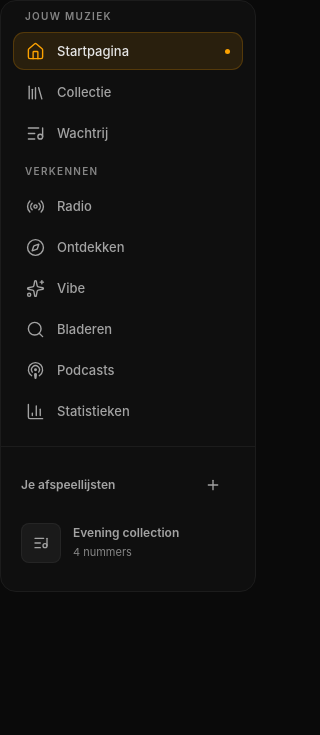
Scenario: redesigned sidebar keeps playlist and drawer behavior › rejects empty names and closes the editor with Escape
Click the button named "Afspeellijst maken" at x=213, y=485, box [191, 463, 235, 507]
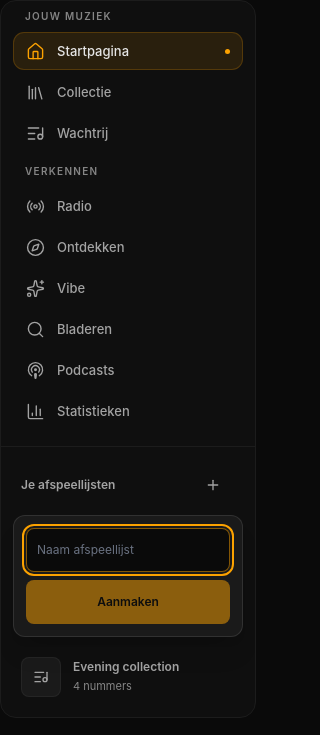
Press Enter in the field with placeholder "Naam afspeellijst", box [26, 528, 230, 572]
Press Escape in the field with placeholder "Naam afspeellijst", box [26, 528, 230, 572]
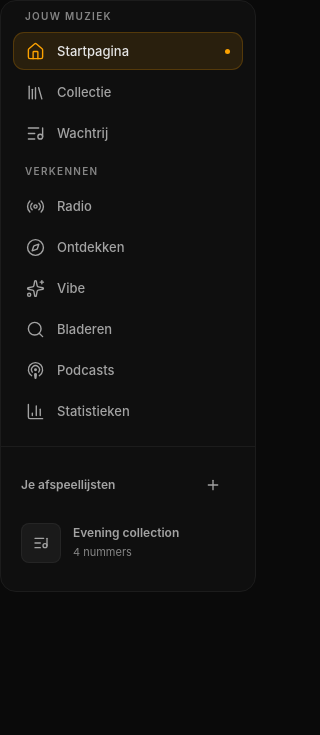
Now the field is gone
